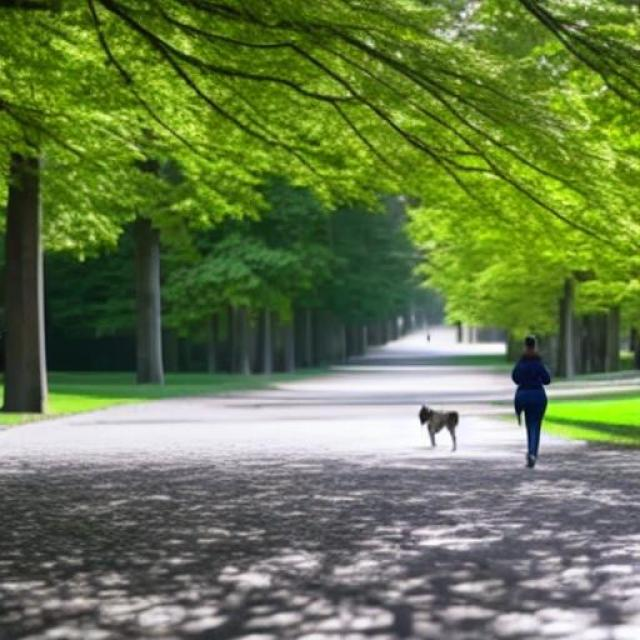Unleashed_Dog: (418, 388, 545, 452)
